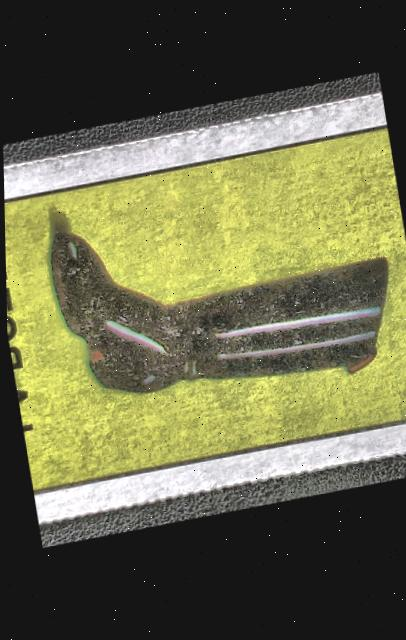La Bota: (2, 109, 406, 507)
